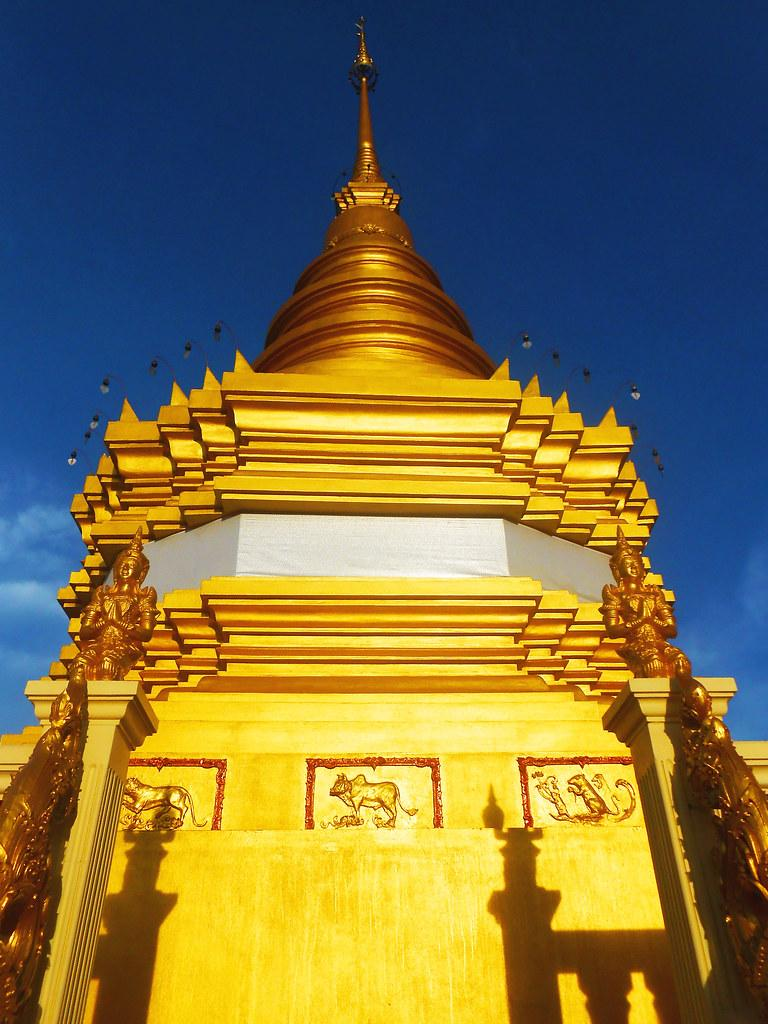temple: (2, 15, 767, 1022)
